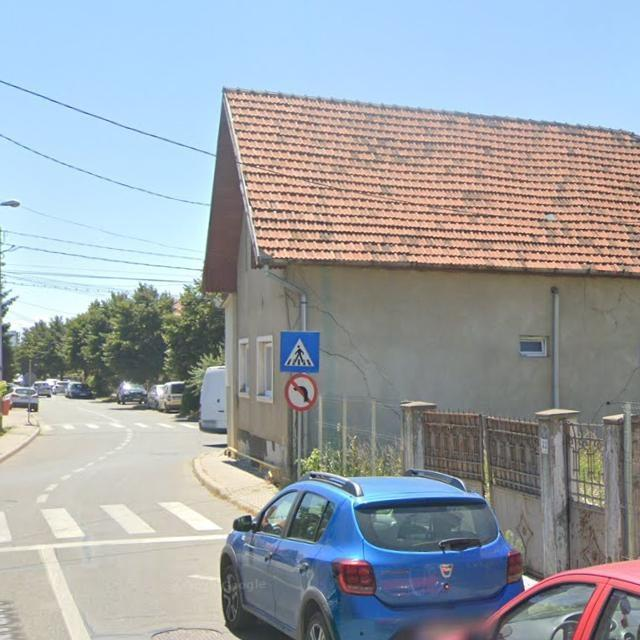info_crosswalk: (280, 331, 320, 373)
